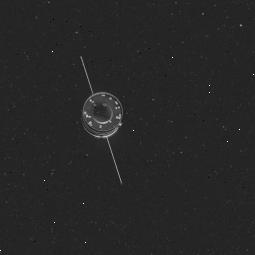double_start: (76, 80, 132, 144)
